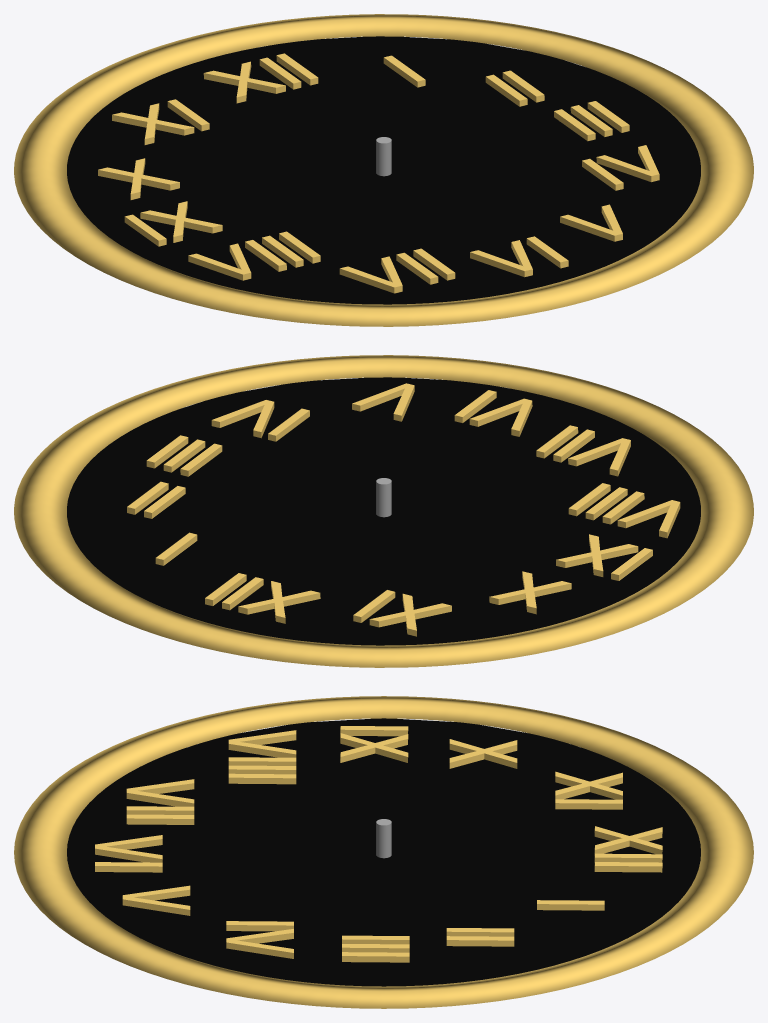
Rendered from neonic-clock.obj.
3 views of the same model, one above another, from view 1: azimuth 30°, elevation 25°; view 2: azimuth 150°, elevation 25°; view 3: azimuth 270°, elevation 25° (orthographic).
Visible parts, largest first — view 1: Cylinder1, Torus, Text, Cylinder; view 2: Cylinder1, Torus, Text, Cylinder; view 3: Cylinder1, Torus, Text, Cylinder.
Part boxes in pixels (x1=…): Cylinder1: x1=67, y1=36, x2=700, y2=304; Torus: x1=14, y1=14, x2=753, y2=326; Text: x1=98, y1=53, x2=659, y2=293; Cylinder: x1=376, y1=137, x2=391, y2=176; Cylinder1: x1=67, y1=377, x2=700, y2=645; Torus: x1=14, y1=355, x2=753, y2=667; Text: x1=127, y1=383, x2=680, y2=636; Cylinder: x1=376, y1=478, x2=391, y2=517; Cylinder1: x1=67, y1=718, x2=700, y2=986; Torus: x1=14, y1=696, x2=753, y2=1008; Text: x1=95, y1=726, x2=662, y2=962; Cylinder: x1=376, y1=819, x2=391, y2=858.
Bounding box in the file's own units: 11.08 × 1 × 11.08.
